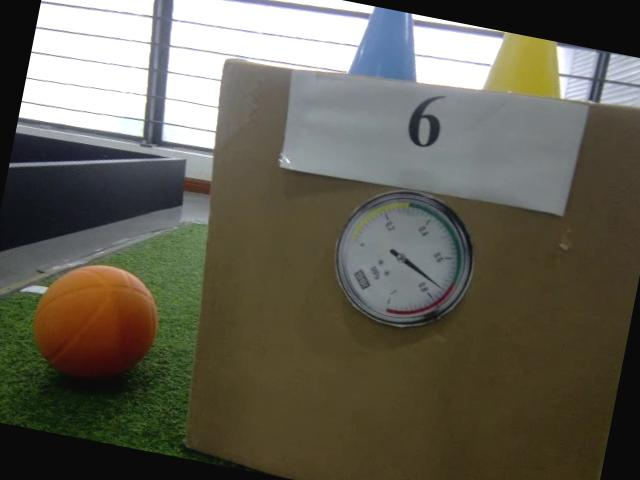6: (404, 87, 451, 151)
Dashboard: (324, 179, 486, 341)
blue_barrel: (340, 2, 432, 85)
orange_ball: (25, 252, 168, 390)
ssi: (350, 269, 373, 294)
yellow_barrel: (483, 29, 571, 99)
